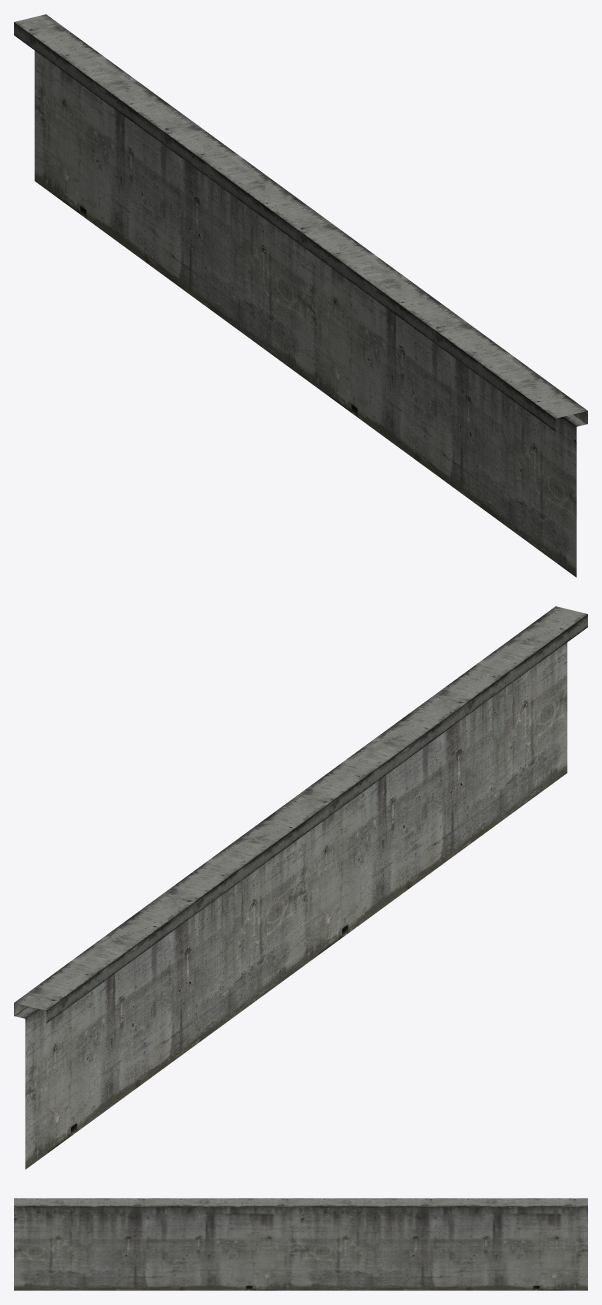
Rendered from UNIConcrete_wall_v1_W_tile_1.002.glb.
The picture shows the model from 3 angles, top to bottom: view 1: azimuth 30°, elevation 25°; view 2: azimuth 150°, elevation 25°; view 3: azimuth 270°, elevation 25°; orthographic projection. The views are drawn at different scales.
Visible parts, largest first — view 1: UNIConcrete_wall_v1_W_tile_1.002; view 2: UNIConcrete_wall_v1_W_tile_1.002; view 3: UNIConcrete_wall_v1_W_tile_1.002.
Boxes of the visible parts, x1=… form: UNIConcrete_wall_v1_W_tile_1.002: x1=14, y1=14, x2=587, y2=577; UNIConcrete_wall_v1_W_tile_1.002: x1=14, y1=606, x2=587, y2=1169; UNIConcrete_wall_v1_W_tile_1.002: x1=14, y1=1198, x2=587, y2=1290.
Bounding box in the file's own units: 0.3428 × 1.67 × 10.
1 material, 1 textured.
